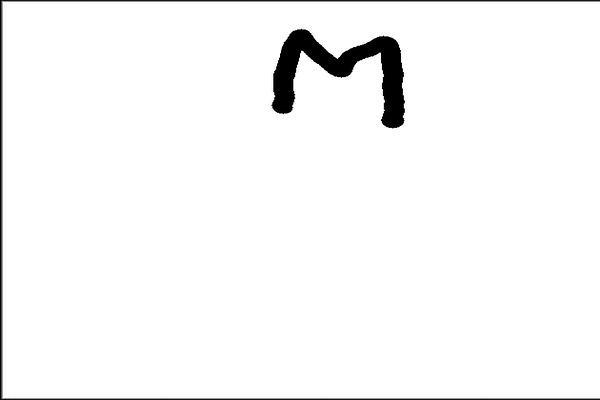M: (269, 24, 406, 130)
